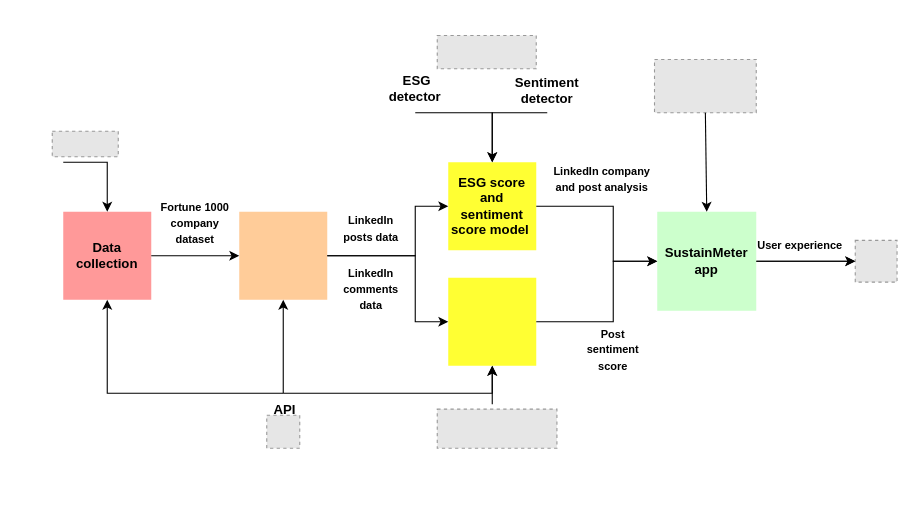
Image size: 916x510. Some labels were removed from this diagram. Grey dashed boxes stand in for pictures. Each missing label, with the centre of its shape:
"Data processing" belongs at (283,255).
"Sentiment score predictor model" belongs at (492,321).
